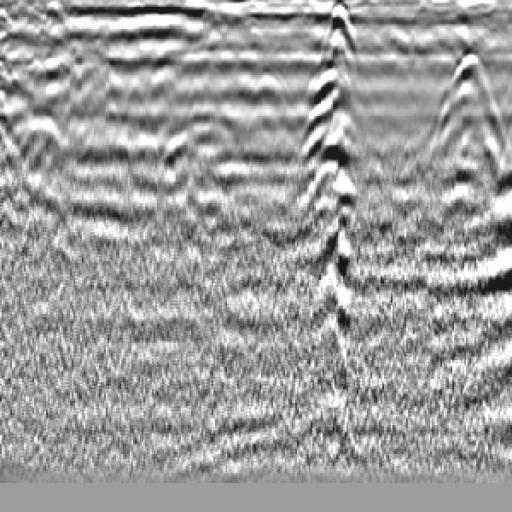metalic: (297, 21, 384, 323)
nonmetalic: (148, 48, 258, 258), (405, 40, 512, 223)
